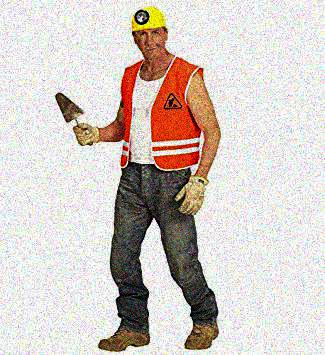helmet: (130, 7, 168, 60)
